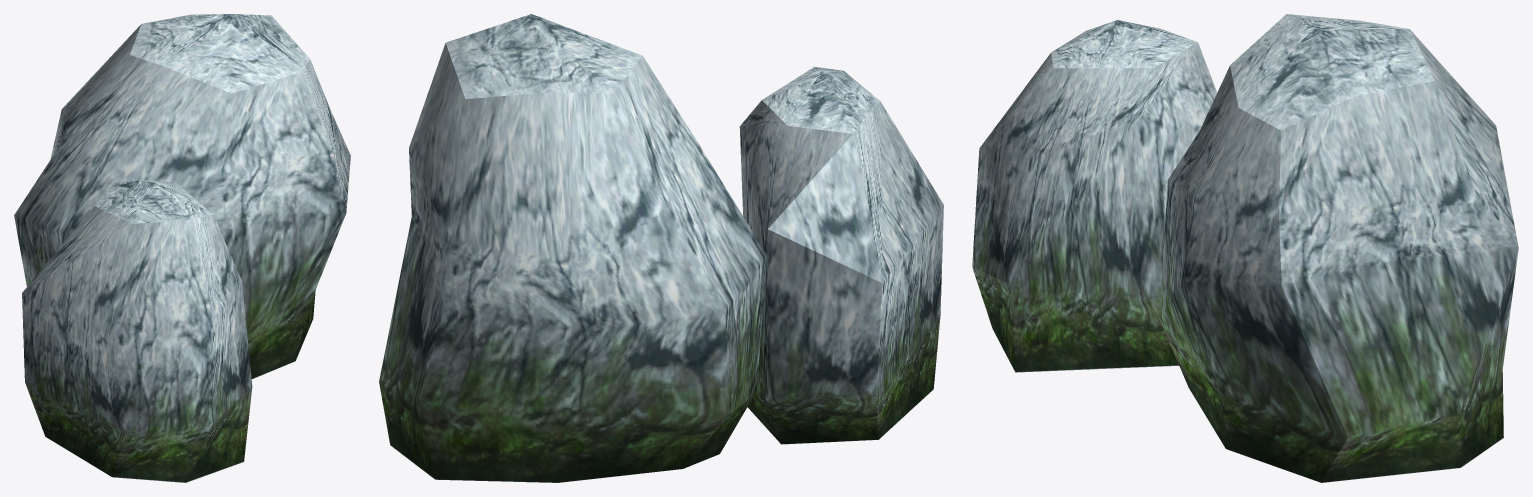
Rendered from STONE3.glb.
3 renders of one model, left to right at view 1: azimuth 30°, elevation 25°; view 2: azimuth 150°, elevation 25°; view 3: azimuth 270°, elevation 25°, orthographic. The views are drawn at different scales.
Parts seen in each view (by area): view 1: STONE3; view 2: STONE3; view 3: STONE3.
Boxes of the visible parts, <box> form: STONE3: <box>14,14,350,482</box>; STONE3: <box>379,14,943,482</box>; STONE3: <box>972,14,1518,482</box>.
Bounding box in the file's own units: 2.47 × 2.21 × 2.69.
Materials: 2 (2 with a texture image).
